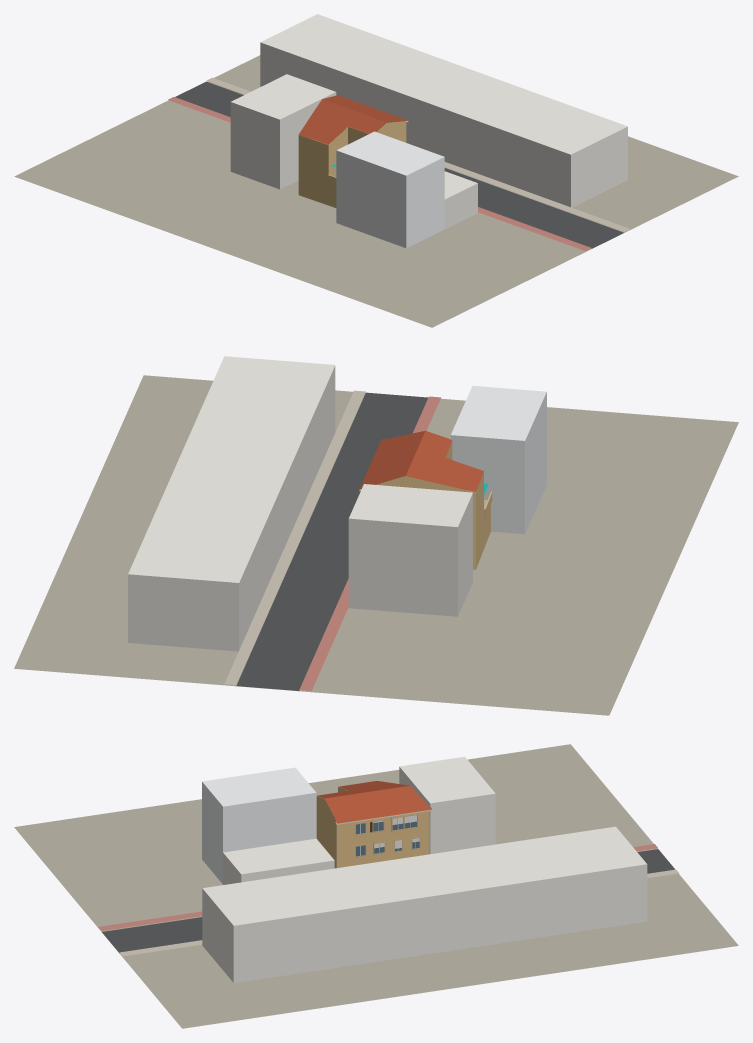
File: casa_pineda.glb
3 views of the same model, one above another, from view 1: azimuth 30°, elevation 25°; view 2: azimuth 150°, elevation 25°; view 3: azimuth 270°, elevation 25° (orthographic). The views are drawn at different scales.
Visible parts, largest first — view 1: terreno, manzana_enfrente_aprox, nave_chapa_blanca_aprox, edificio_n3_aprox, calzada, taller_neumaticos_aprox, cubierta_cuerpo1, acera_enfrente, acera_ajedrezada, cubierta_cuerpo3, P2_bajocubierta_cuerpo1, P1_vivienda_B1 (+2 smaller); view 2: terreno, manzana_enfrente_aprox, calzada, edificio_n3_aprox, nave_chapa_blanca_aprox, acera_enfrente, cubierta_cuerpo1, acera_ajedrezada, cubierta_cuerpo3, P2_bajocubierta_cuerpo1, cubierta_cuerpo4; view 3: terreno, manzana_enfrente_aprox, nave_chapa_blanca_aprox, edificio_n3_aprox, taller_neumaticos_aprox, calzada, cubierta_cuerpo3, P2_declarada_cuerpo3, P1_vivienda_B3, cubierta_cuerpo4, P1_vivienda_B4, acera_ajedrezada (+3 smaller).
Part boxes in pixels (box(x1,y1,x2,y2)): terreno: box(14, 55, 738, 327); manzana_enfrente_aprox: box(260, 14, 627, 207); nave_chapa_blanca_aprox: box(336, 131, 444, 248); edificio_n3_aprox: box(230, 74, 336, 189); calzada: box(175, 81, 623, 248); taller_neumaticos_aprox: box(444, 171, 477, 229); cubierta_cuerpo1: box(299, 98, 354, 144); acera_enfrente: box(206, 77, 629, 231); acera_ajedrezada: box(168, 97, 591, 250); cubierta_cuerpo3: box(338, 108, 405, 133); P2_bajocubierta_cuerpo1: box(298, 127, 347, 160); P1_vivienda_B1: box(298, 150, 336, 180); terreno: box(14, 375, 738, 715); manzana_enfrente_aprox: box(128, 356, 335, 651); calzada: box(236, 392, 427, 690); edificio_n3_aprox: box(348, 484, 472, 616); nave_chapa_blanca_aprox: box(450, 386, 546, 534); acera_enfrente: box(224, 390, 365, 684); cubierta_cuerpo1: box(398, 455, 483, 491); acera_ajedrezada: box(299, 396, 440, 690); cubierta_cuerpo3: box(375, 430, 452, 464); P2_bajocubierta_cuerpo1: box(398, 472, 483, 512); cubierta_cuerpo4: box(366, 457, 406, 484); terreno: box(14, 744, 738, 1028); manzana_enfrente_aprox: box(202, 826, 647, 982); nave_chapa_blanca_aprox: box(202, 767, 316, 883); edificio_n3_aprox: box(399, 756, 495, 854); taller_neumaticos_aprox: box(223, 838, 334, 884); calzada: box(102, 849, 674, 953); cubierta_cuerpo3: box(317, 788, 382, 820); P2_declarada_cuerpo3: box(316, 796, 383, 843); P1_vivienda_B3: box(316, 822, 383, 866); cubierta_cuerpo4: box(374, 789, 429, 813); P1_vivienda_B4: box(383, 830, 429, 859); acera_ajedrezada: box(98, 844, 657, 930).
Size of the model in its own units: 79.87 by 10.55 by 85.97.
